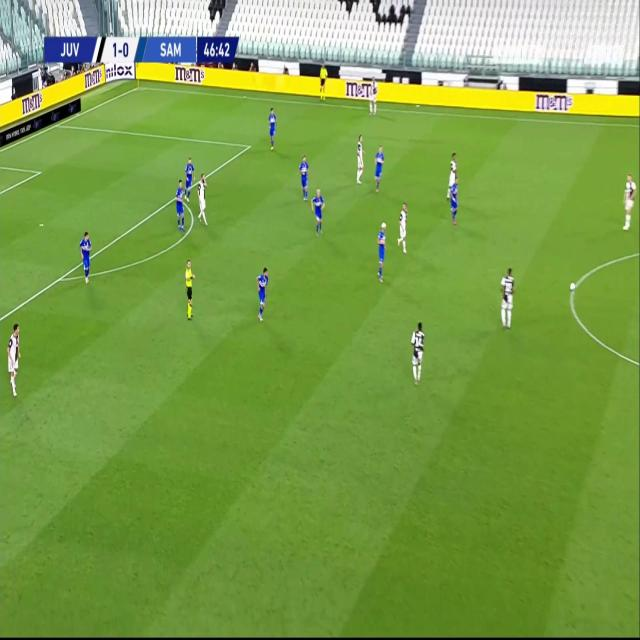ball: (569, 280, 576, 292)
player: (5, 317, 21, 397), (498, 264, 516, 331), (619, 169, 636, 231), (409, 320, 425, 384), (255, 264, 270, 323), (375, 219, 389, 282), (447, 153, 460, 220), (78, 228, 93, 285), (183, 255, 196, 319), (194, 170, 209, 224), (395, 200, 409, 255), (311, 187, 326, 236), (372, 144, 386, 191), (174, 177, 186, 231), (298, 154, 310, 202), (266, 105, 278, 150), (355, 133, 365, 185), (184, 156, 195, 197), (318, 62, 328, 100), (369, 76, 377, 114)
